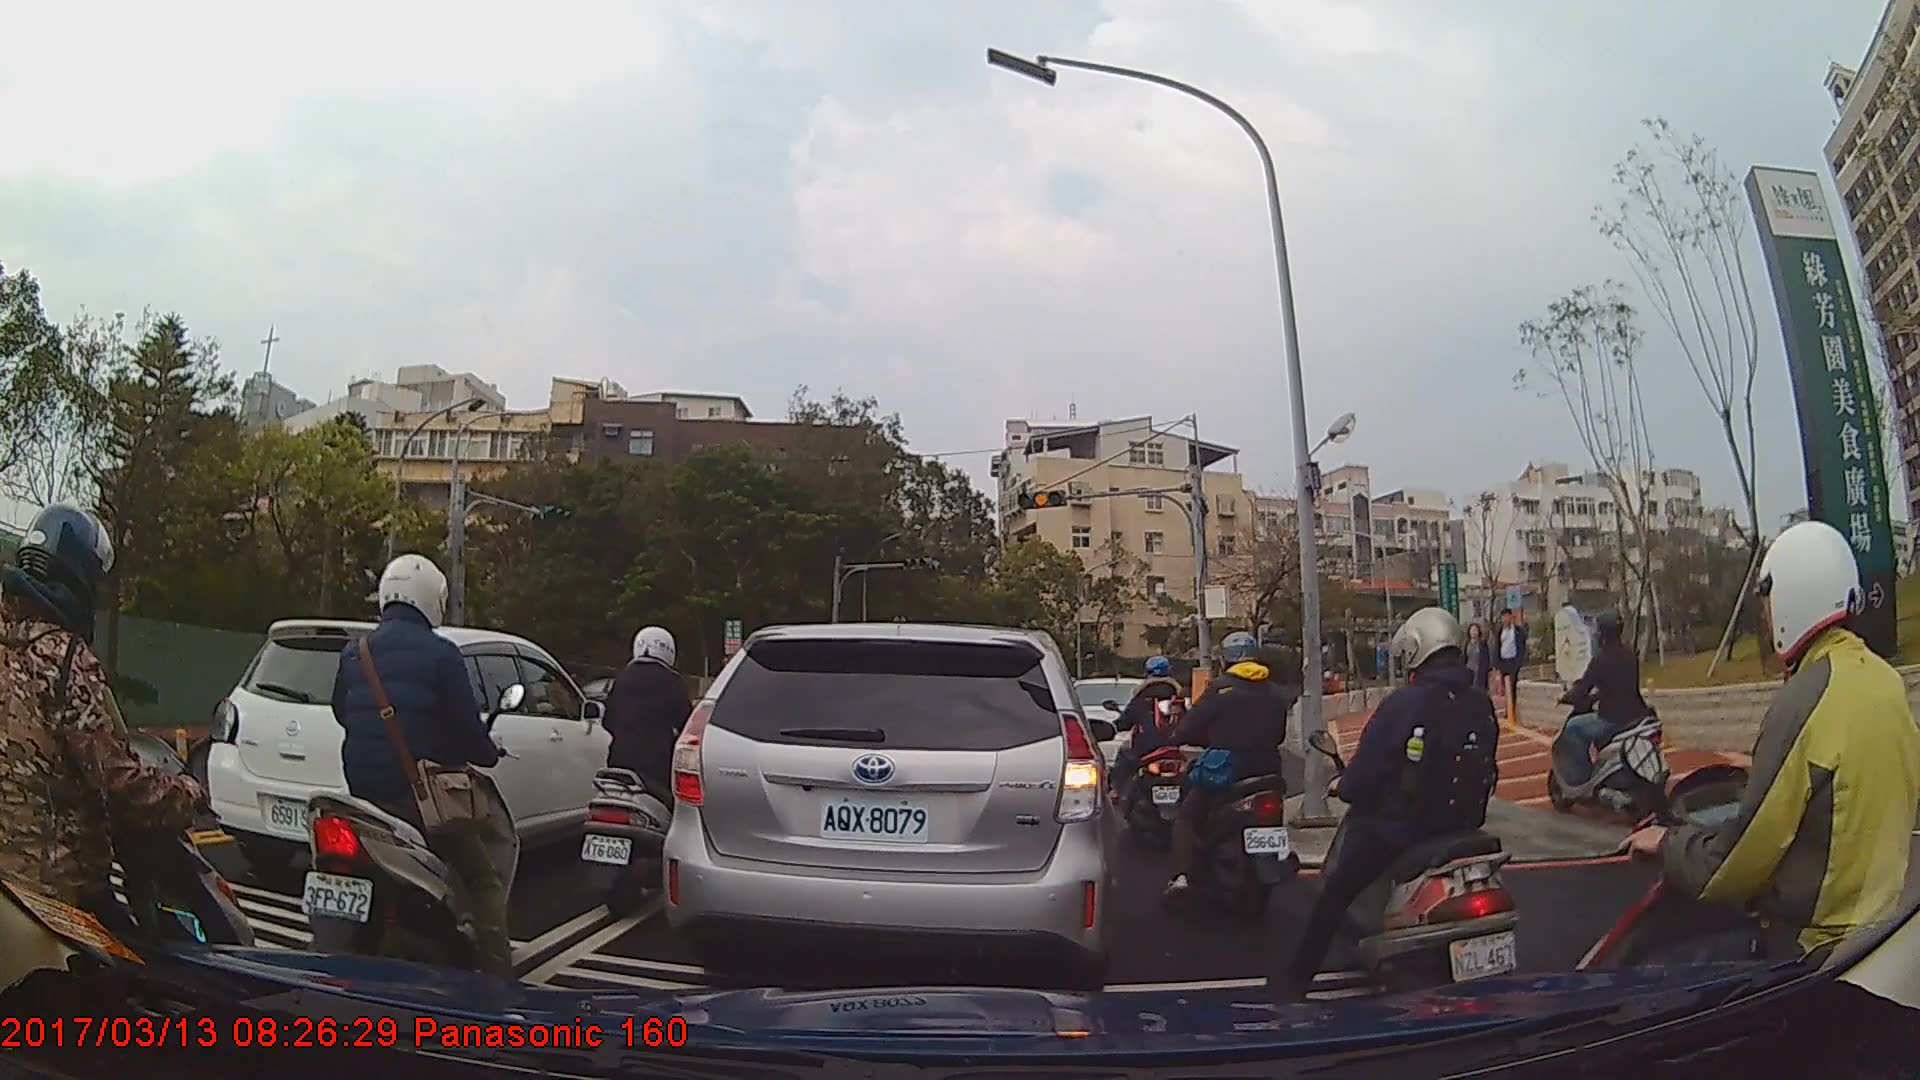pedestrian: (1490, 609, 1532, 720), (1462, 624, 1496, 719)
rider: (1558, 519, 1920, 1080), (1, 499, 261, 1055), (299, 545, 526, 1000), (1298, 606, 1529, 1019), (579, 626, 729, 924), (1164, 632, 1302, 917), (1542, 615, 1668, 831), (1103, 653, 1195, 853)
vehicle: (659, 623, 1115, 986), (207, 618, 632, 887), (1058, 675, 1164, 783)
